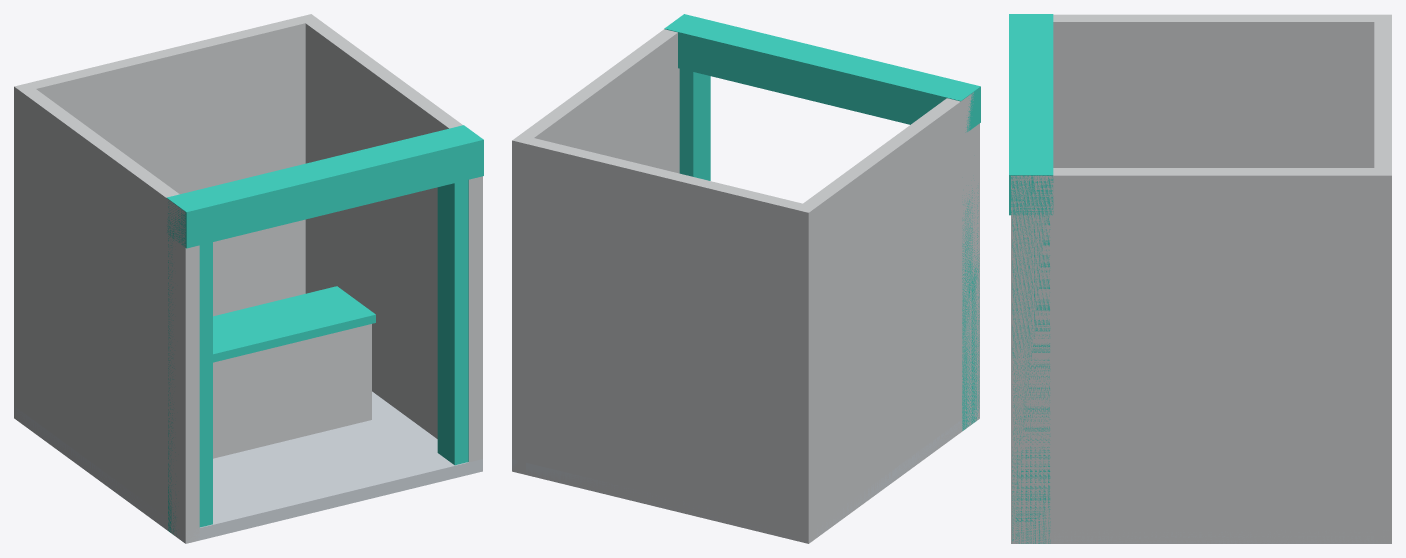
The picture shows the model from 3 angles, left to right: view 1: azimuth 30°, elevation 25°; view 2: azimuth 150°, elevation 25°; view 3: azimuth 270°, elevation 25°; orthographic projection. The views are drawn at different scales.
Visible parts, largest first — view 1: Exhibition Booth Concept; view 2: Exhibition Booth Concept; view 3: Exhibition Booth Concept.
Part boxes in pixels (left/top/right/bottom): Exhibition Booth Concept: left=14, top=14, right=483, bottom=543; Exhibition Booth Concept: left=512, top=14, right=980, bottom=543; Exhibition Booth Concept: left=1009, top=14, right=1391, bottom=543.
Size of the model in its own units: 3 by 3.2 by 3.01.
